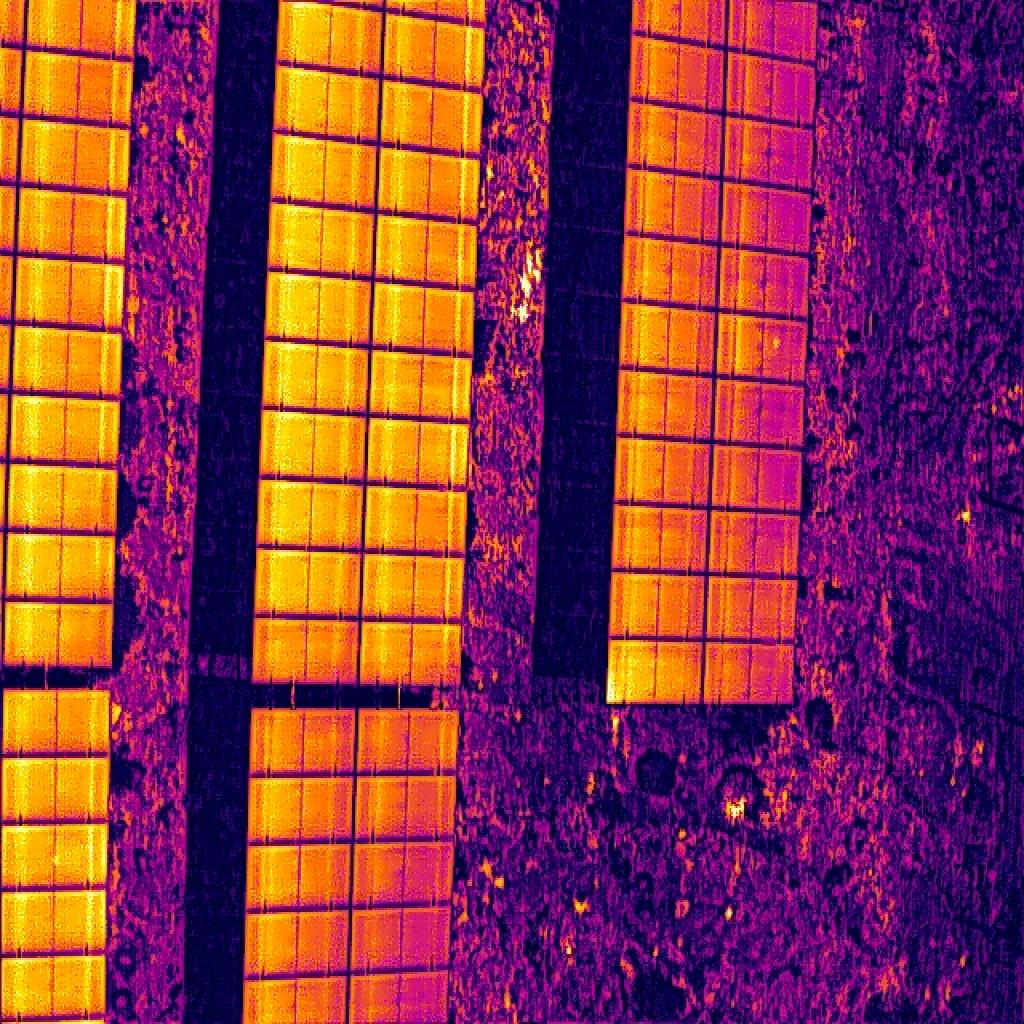panel: (17, 187, 125, 262), (266, 273, 371, 345), (2, 689, 111, 757), (631, 35, 724, 114), (247, 776, 353, 844), (611, 504, 708, 575), (358, 708, 460, 775), (718, 312, 807, 385)
